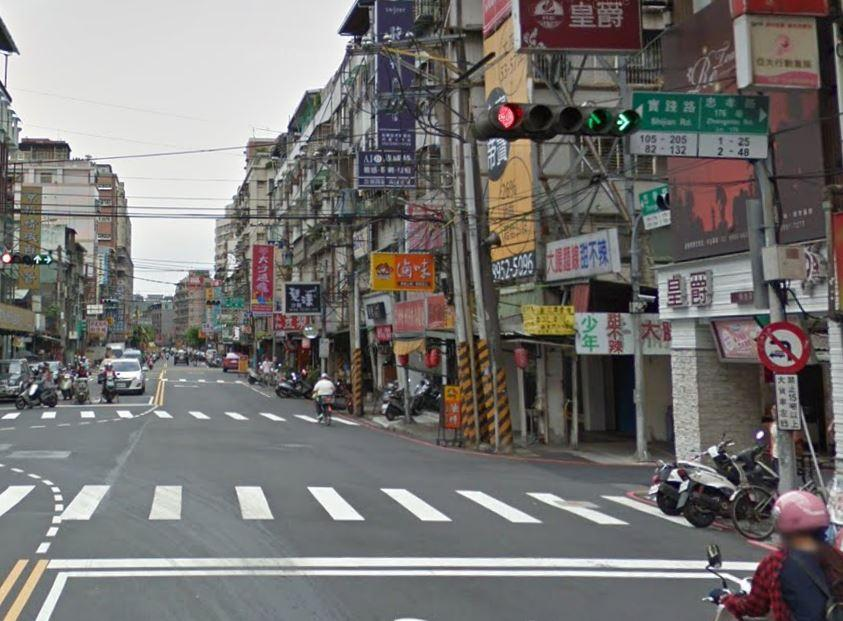red_traffic_light: (478, 98, 583, 137)
